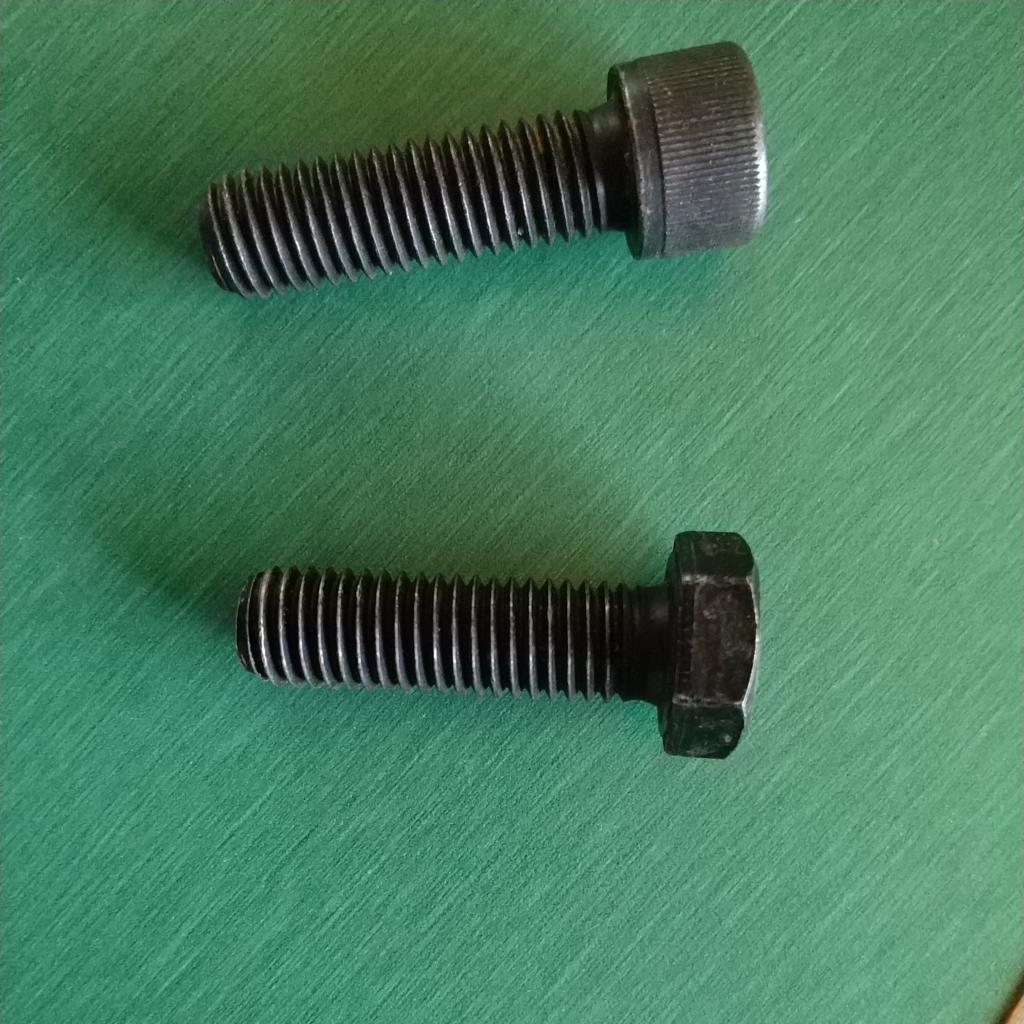screwtype1black: (189, 35, 776, 312)
screwtype2black: (225, 521, 763, 771)
